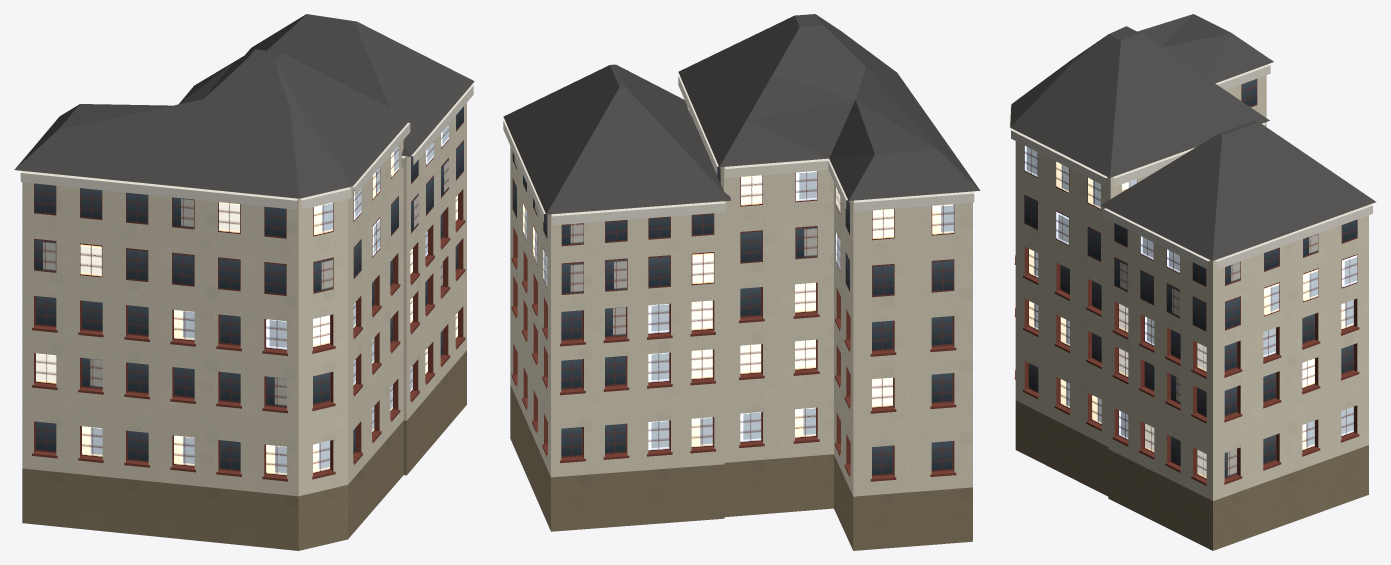
Rendered from z4L_zurl_cream.glb.
3 renders of one model, left to right at view 1: azimuth 30°, elevation 25°; view 2: azimuth 150°, elevation 25°; view 3: azimuth 270°, elevation 25°, orthographic. The views are drawn at different scales.
Parts seen in each view (by area): view 1: z4L_zurl_cream; view 2: z4L_zurl_cream; view 3: z4L_zurl_cream.
Part boxes in pixels (x1=…): z4L_zurl_cream: x1=14, y1=14, x2=474, y2=550; z4L_zurl_cream: x1=503, y1=14, x2=980, y2=550; z4L_zurl_cream: x1=1009, y1=14, x2=1375, y2=550.
Bounding box in the file's own units: 27.01 × 24.48 × 20.07.
3 materials, 3 textured.
